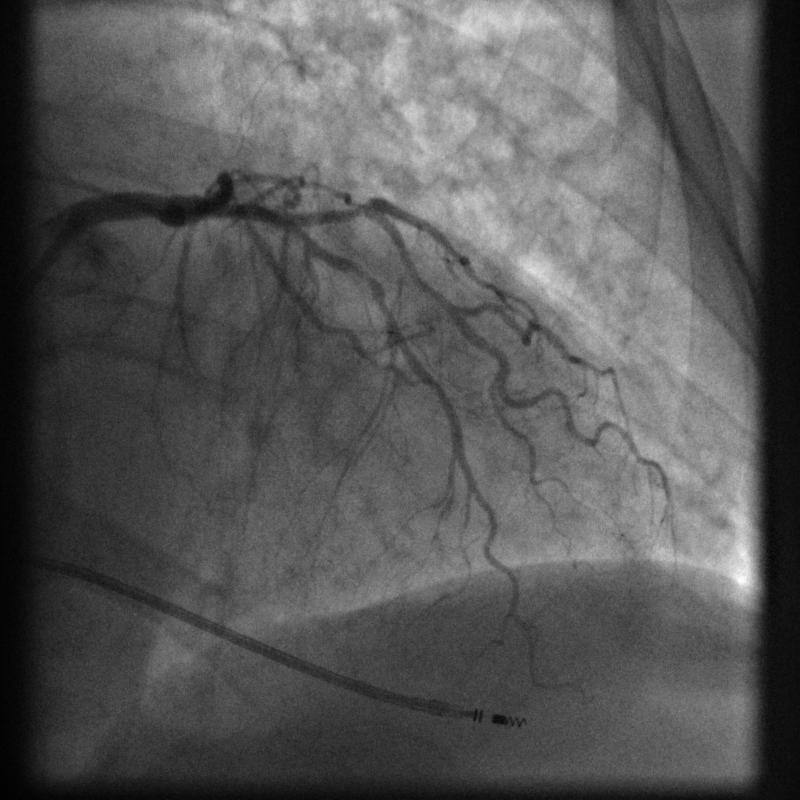Stenosis: (347, 262, 390, 314)
